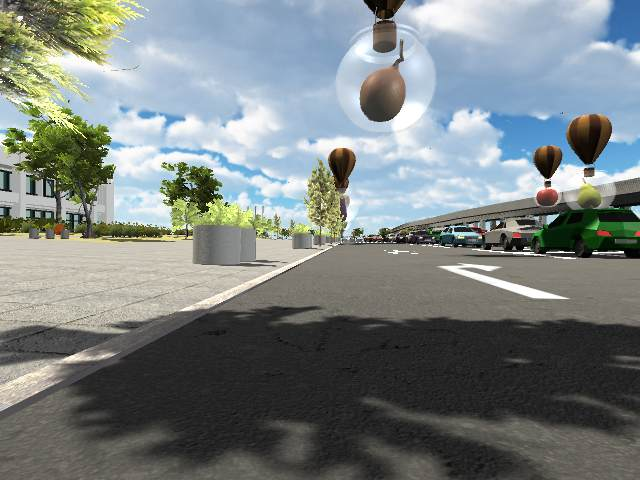ground_right: (433, 261, 503, 272)
